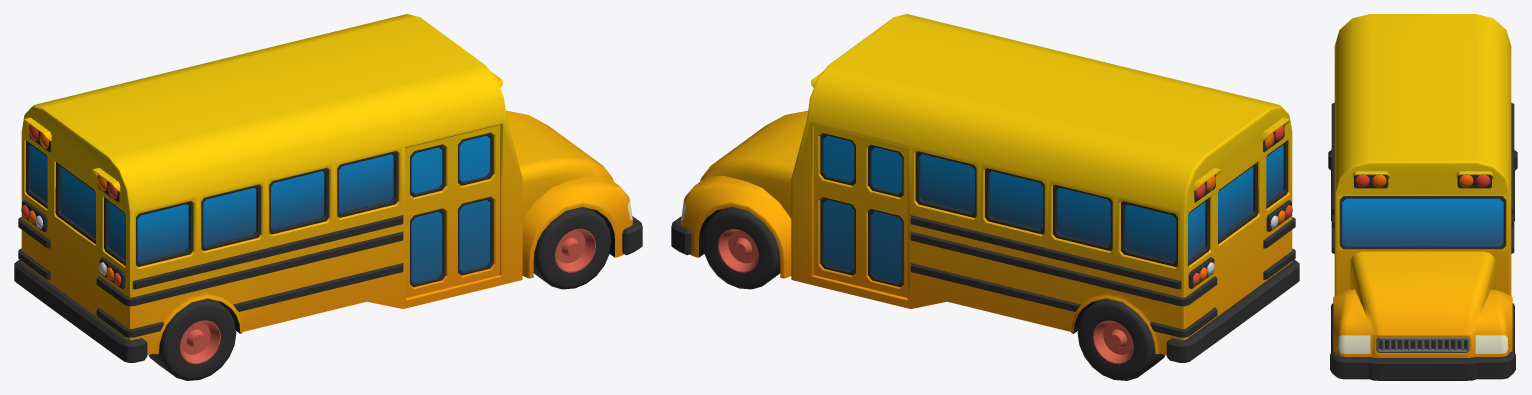
File: Bus.fbx
3 renders of one model, left to right at view 1: azimuth 30°, elevation 25°; view 2: azimuth 150°, elevation 25°; view 3: azimuth 270°, elevation 25°, orthographic. The views are drawn at different scales.
Visible parts, largest first — view 1: Bus, R_doors_2, R_doors_1, Wheel_back, Wheel_forward; view 2: Bus, L_doors_1, L_doors_2, Wheel_back, Wheel_forward; view 3: Bus, Wheel_forward.
Part boxes in pixels (x1=…): Bus: x1=14, y1=14, x2=642, y2=362; R_doors_2: x1=452, y1=125, x2=500, y2=286; R_doors_1: x1=406, y1=136, x2=452, y2=297; Wheel_back: x1=148, y1=298, x2=236, y2=380; Wheel_forward: x1=533, y1=207, x2=611, y2=289; Bus: x1=671, y1=14, x2=1299, y2=362; L_doors_1: x1=813, y1=125, x2=861, y2=286; L_doors_2: x1=861, y1=136, x2=907, y2=297; Wheel_back: x1=1077, y1=298, x2=1165, y2=380; Wheel_forward: x1=702, y1=207, x2=780, y2=289; Bus: x1=1328, y1=14, x2=1517, y2=380; Wheel_forward: x1=1331, y1=303, x2=1514, y2=352.
Size of the model in its own units: 13.94 by 5.66 by 5.37.
